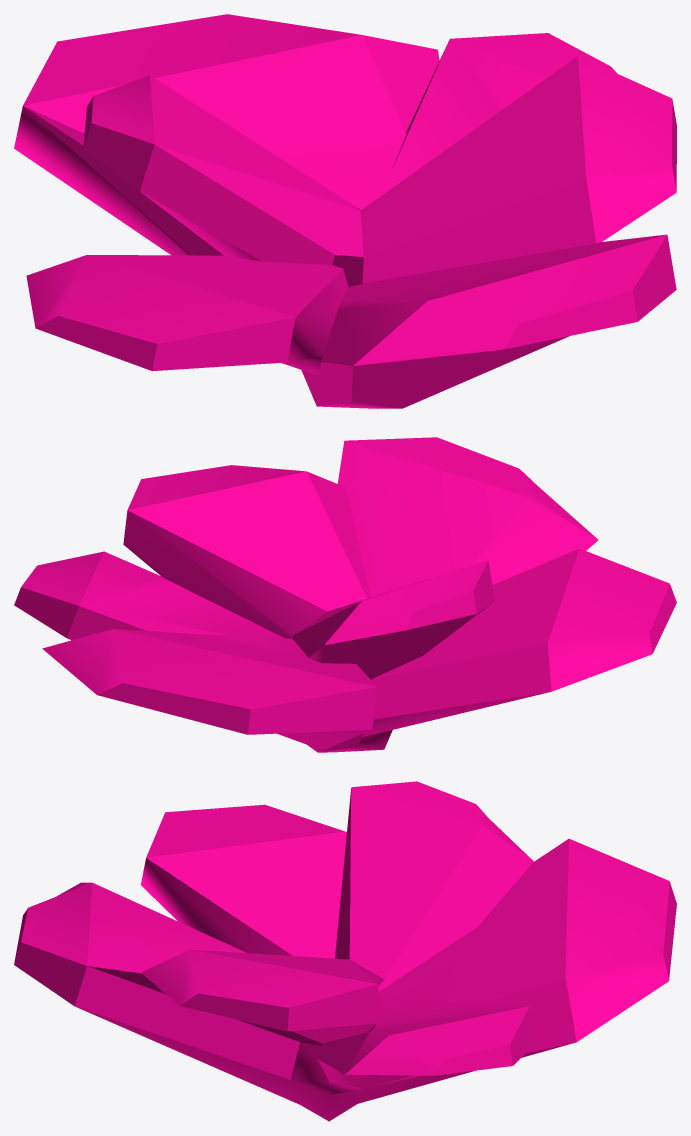
File: coral4.gltf
The picture shows the model from 3 angles, top to bottom: view 1: azimuth 30°, elevation 25°; view 2: azimuth 150°, elevation 25°; view 3: azimuth 270°, elevation 25°; orthographic projection. The views are drawn at different scales.
Size of the model in its own units: 6.15 by 2.6 by 6.42.
